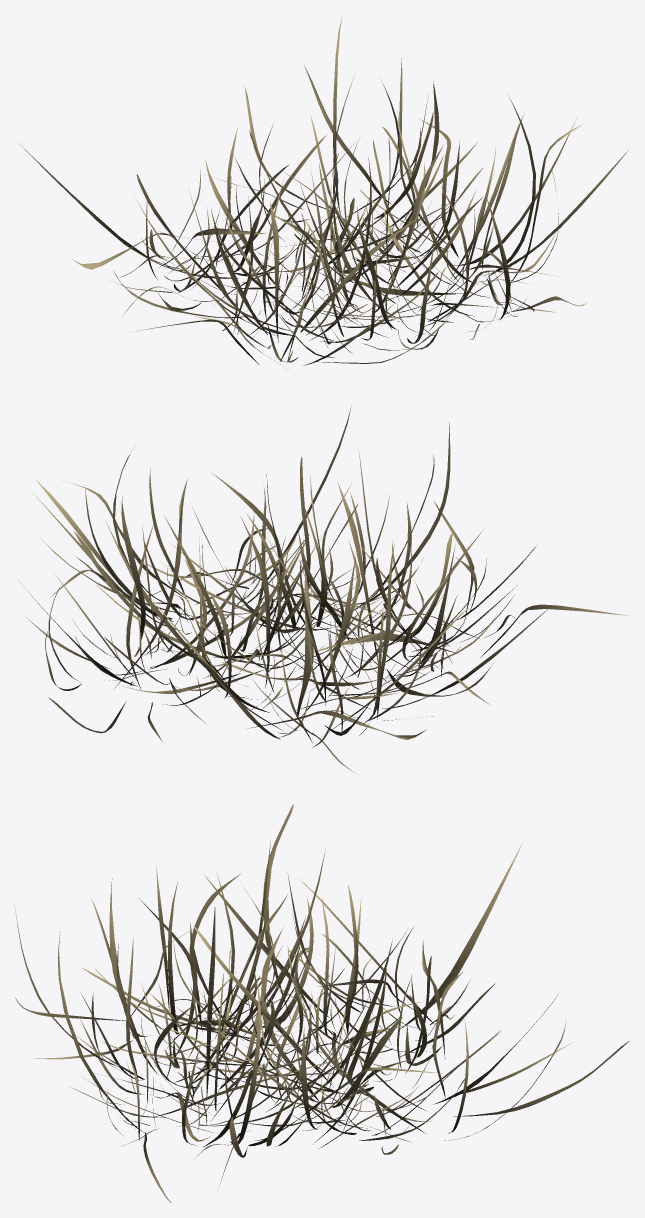
File: grass5.fbx
3 renders of one model, top to bottom at view 1: azimuth 30°, elevation 25°; view 2: azimuth 150°, elevation 25°; view 3: azimuth 270°, elevation 25°, orthographic. The views are drawn at different scales.
Visible parts, largest first — view 1: GS Dryland field; view 2: GS Dryland field; view 3: GS Dryland field.
Boxes of the visible parts, x1,y1,x2,y2 form: GS Dryland field: [18, 16, 629, 365]; GS Dryland field: [18, 405, 628, 774]; GS Dryland field: [14, 804, 629, 1202].
Size of the model in its own units: 89.54 by 31.67 by 82.99.
